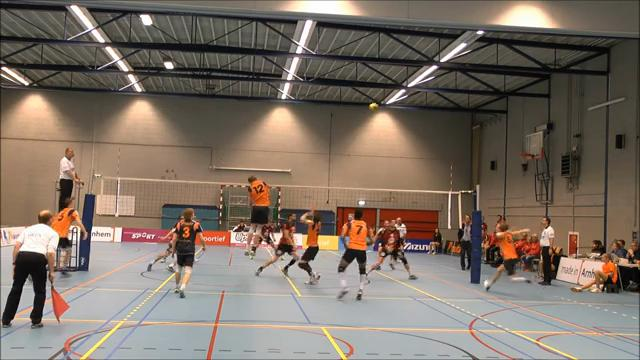Player: (337, 209, 372, 299), (484, 222, 530, 290), (172, 208, 205, 297), (51, 198, 87, 275), (255, 214, 298, 275), (367, 232, 416, 279), (147, 215, 183, 271), (245, 176, 270, 255), (298, 210, 321, 284), (374, 220, 389, 255), (258, 221, 275, 250), (231, 220, 246, 231)
ball: (366, 102, 380, 113)
